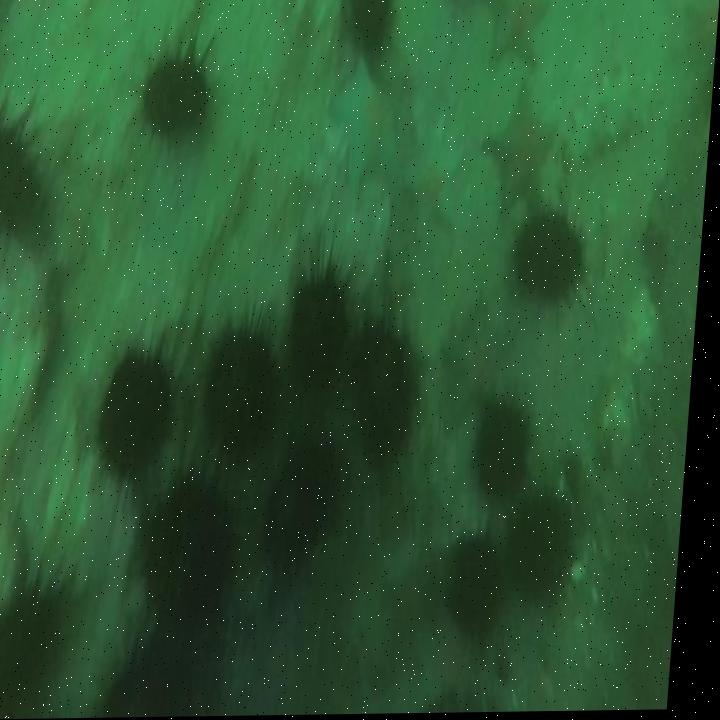echinus: (146, 481, 246, 620), (100, 352, 183, 479), (349, 320, 423, 461), (208, 334, 290, 461), (0, 594, 70, 720), (275, 442, 349, 558), (290, 271, 357, 386), (520, 491, 588, 602), (514, 219, 592, 303), (455, 541, 517, 645), (480, 402, 540, 497), (140, 58, 212, 137), (112, 656, 201, 718), (0, 125, 40, 240), (348, 0, 391, 46)
holothurian: (572, 63, 674, 167)
starfish: (326, 62, 409, 197), (481, 86, 561, 217), (440, 298, 523, 421), (405, 112, 472, 235), (478, 0, 550, 70)
